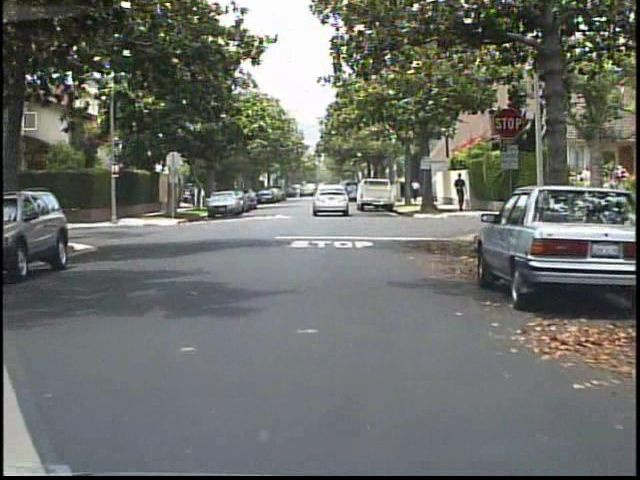person: (450, 170, 472, 216), (411, 176, 422, 204)
